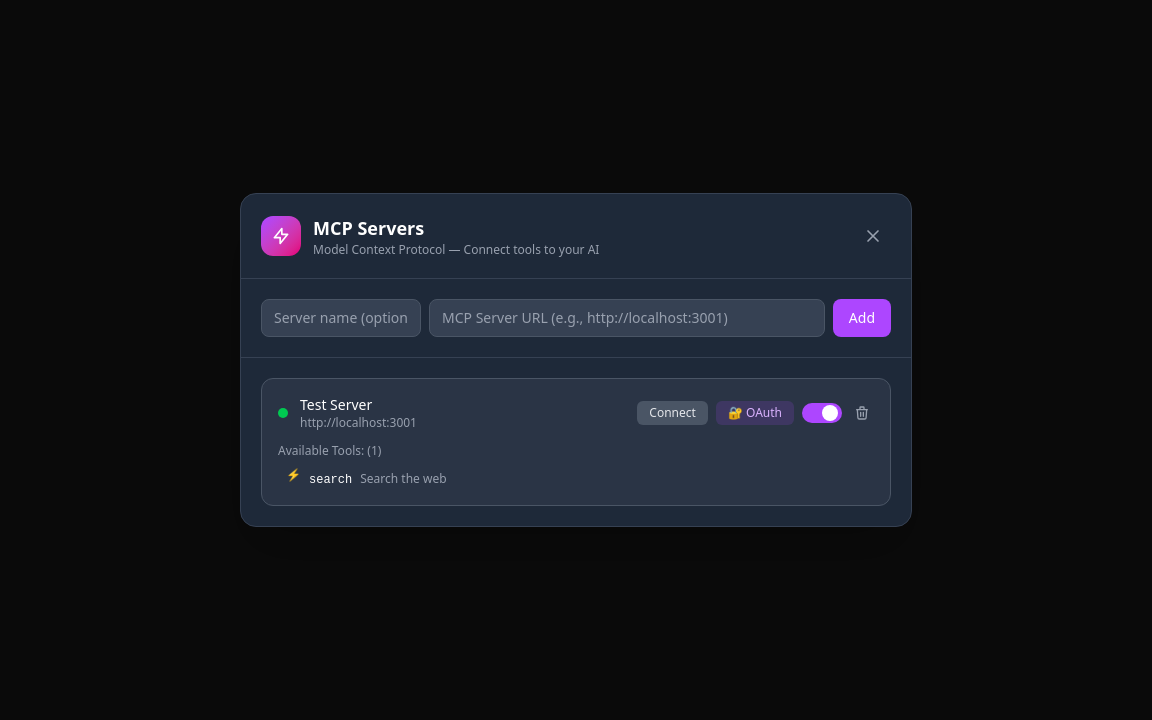
Scenario: MCPPanel › should keep the server and show an error when DELETE fails
Click the button titled "Remove server": (862, 413) left=850, top=401, right=874, bottom=425
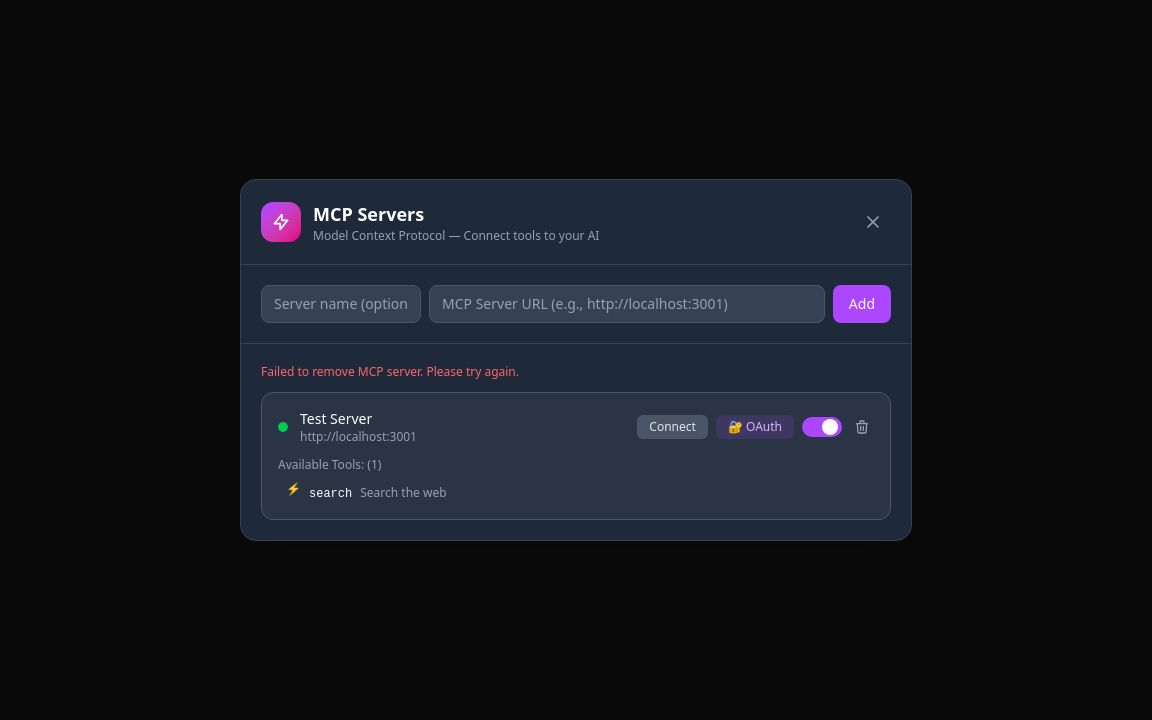
Check: the message "Failed to remove MCP server. Please try again." is shown, box left=261, top=363, right=519, bottom=380
